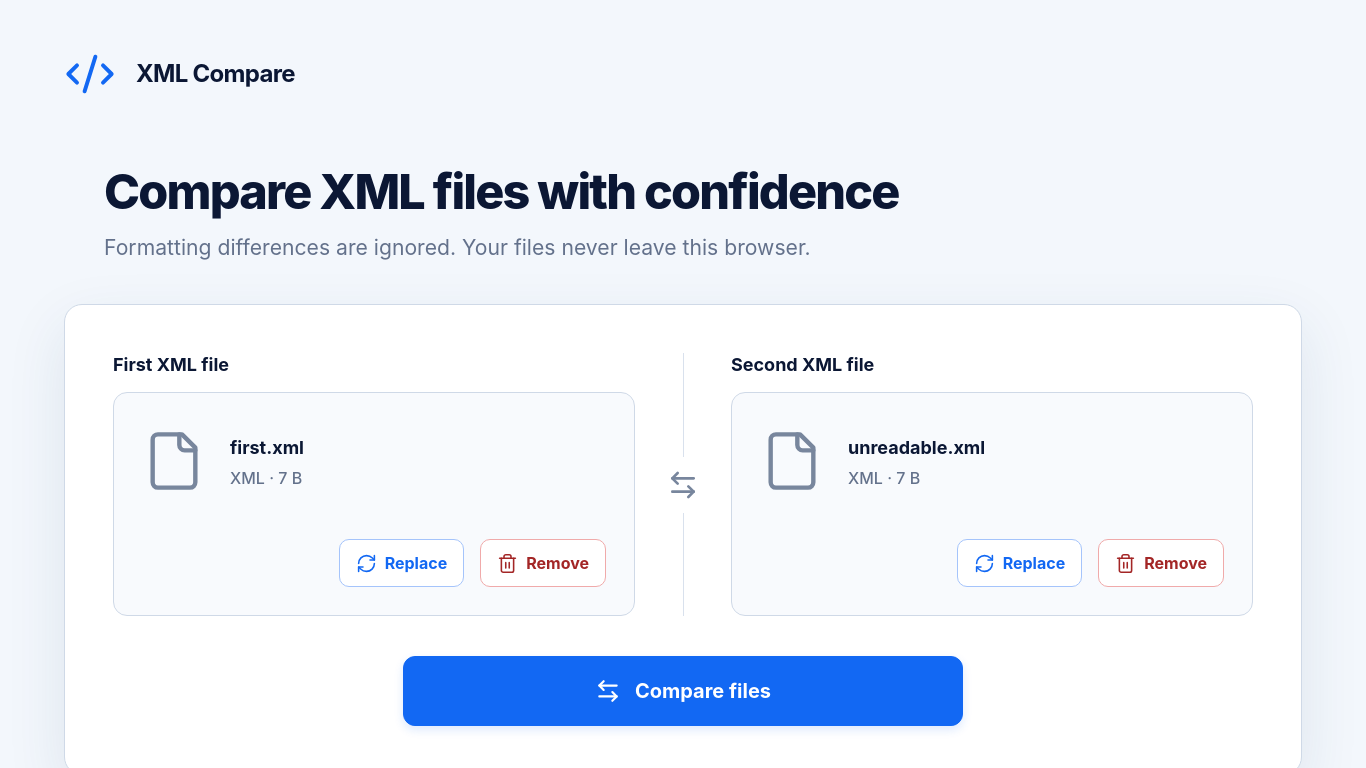
Scenario: XML comparison workflow › maps a file read failure to the affected side
The width and height of the screenshot is (1366, 768).
Earlier steps of the test are not shown.
Click the button "Compare files".
click(683, 691)  # box [403,656,963,726]
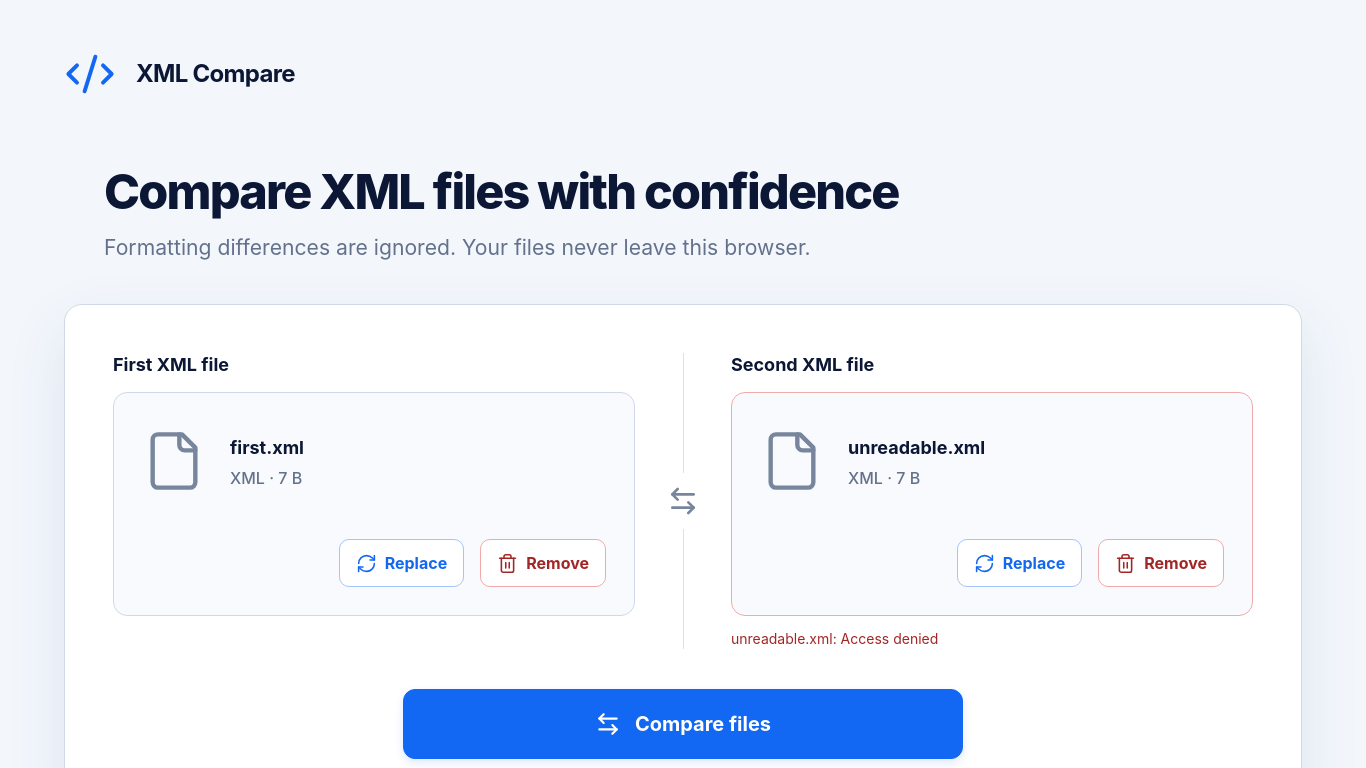
Check: the message shows "Access denied", box [731,630,938,647]
Check: the message shows "unreadable.xml", box [731,630,938,647]
